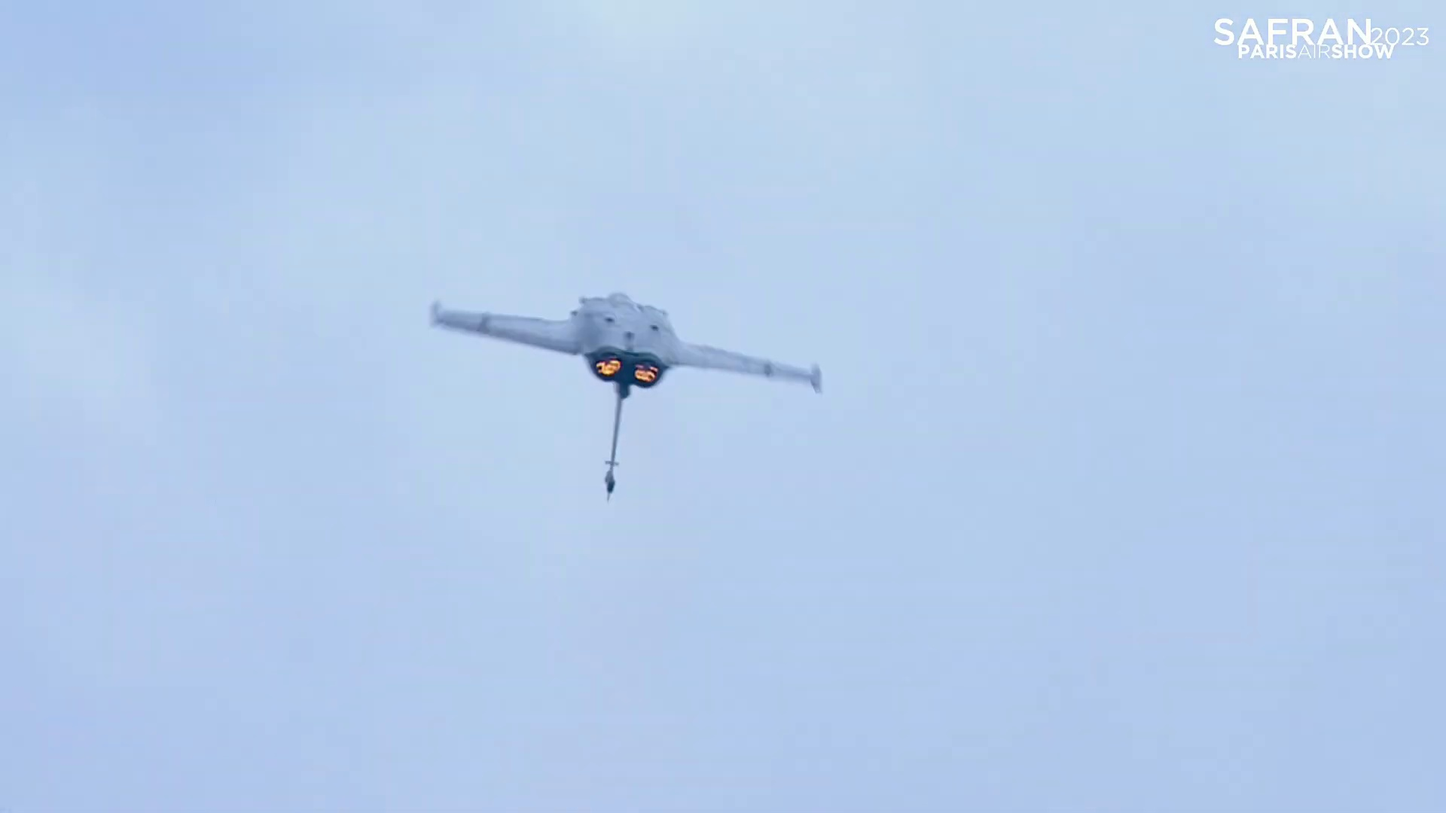Rafale: (431, 281, 823, 509)
